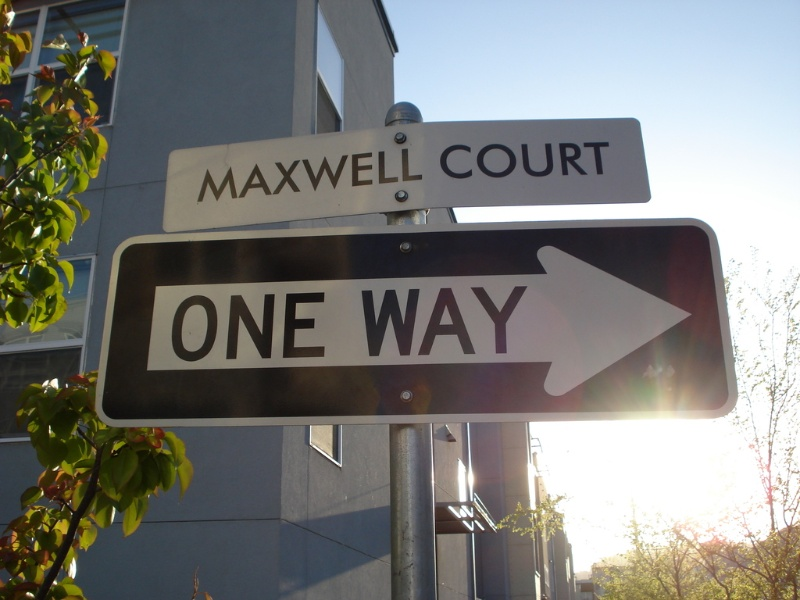one_way: (109, 231, 725, 440)
